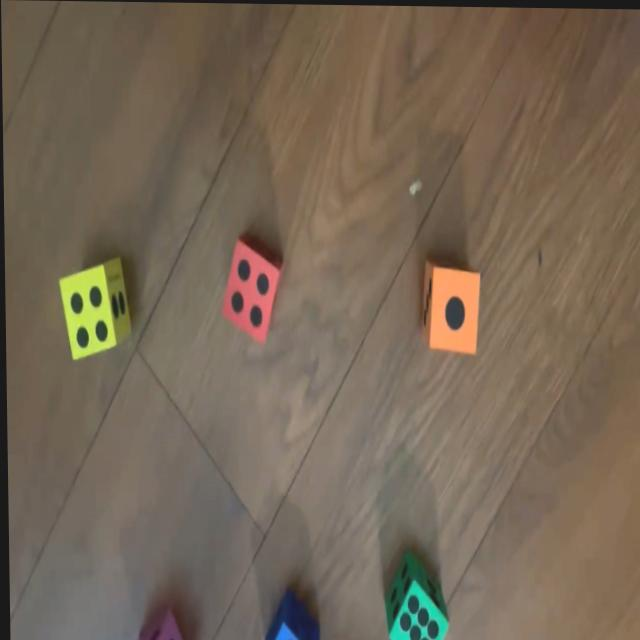blue_block: (260, 583, 318, 640)
red_block: (219, 232, 283, 341)
